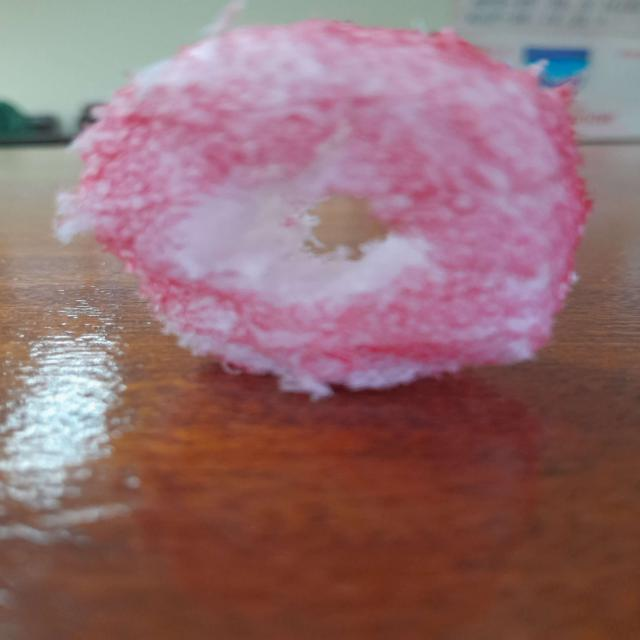wheel: (80, 13, 560, 385)
